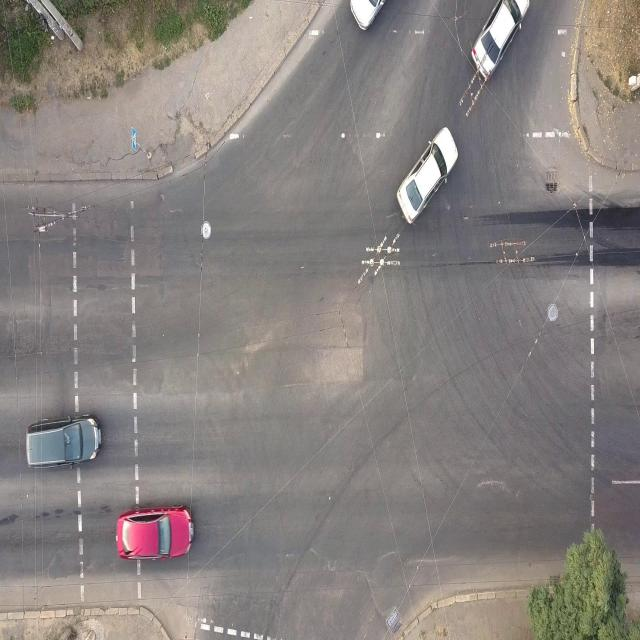Car: (392, 119, 464, 235), (465, 0, 537, 83), (19, 412, 107, 474), (114, 506, 196, 568)
